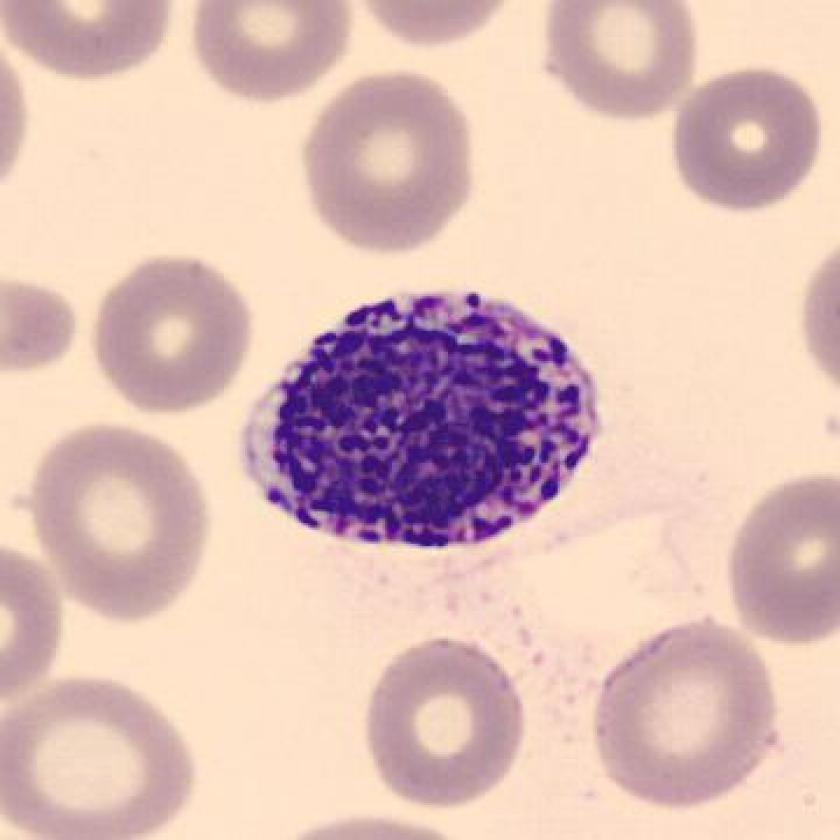basophil: (234, 279, 610, 556)
